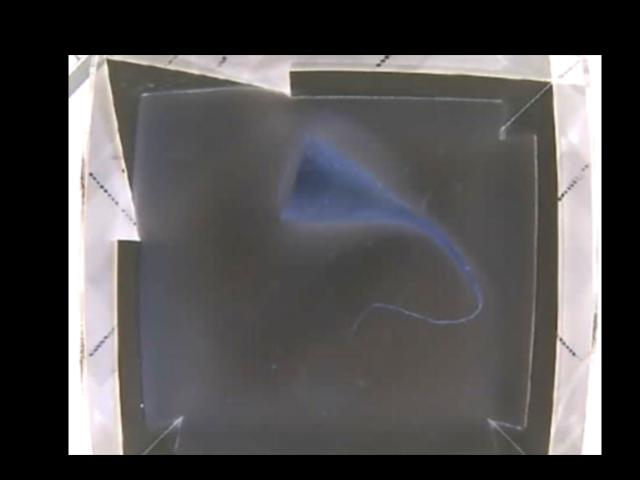Mooli: (265, 135, 394, 223)
